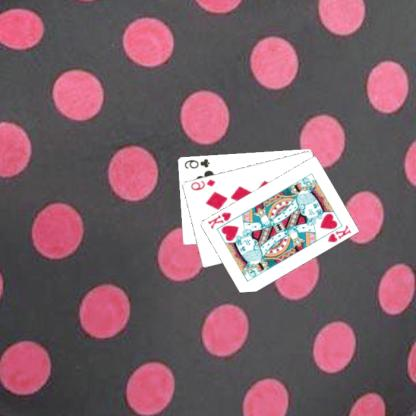6C: (183, 156, 212, 170)
9D: (190, 176, 218, 192)
KH: (326, 222, 354, 244), (207, 209, 234, 230)
